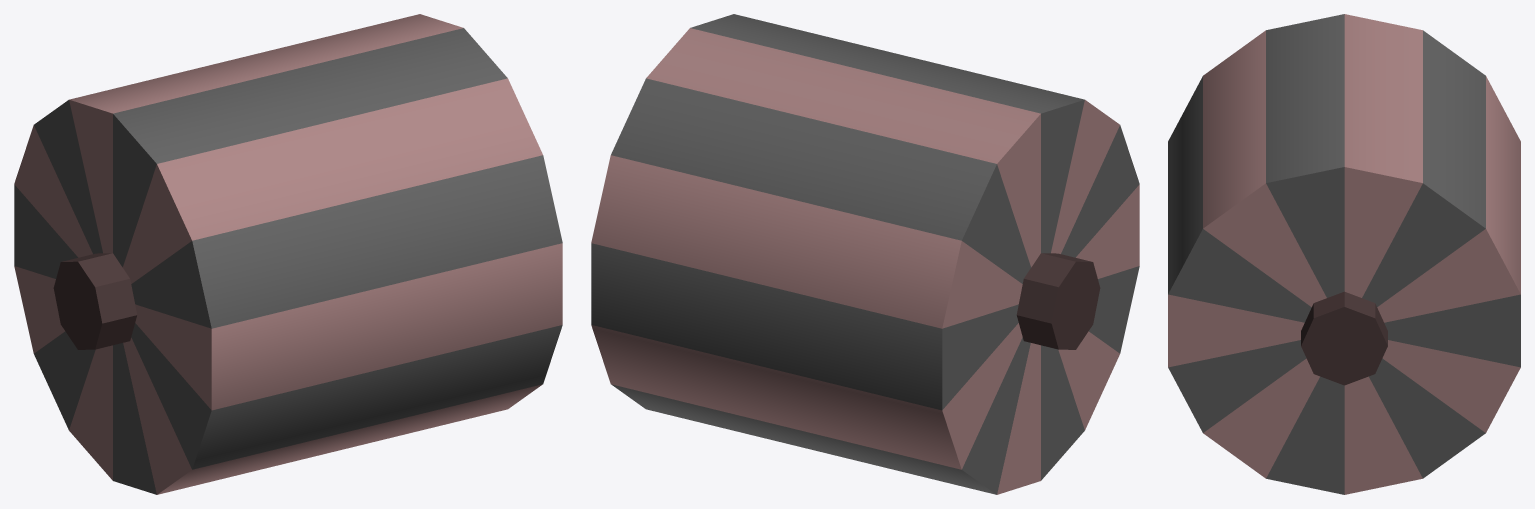
File: west_sinning_trap.fbx
The picture shows the model from 3 angles, left to right: view 1: azimuth 30°, elevation 25°; view 2: azimuth 150°, elevation 25°; view 3: azimuth 270°, elevation 25°; orthographic projection. The views are drawn at different scales.
Parts seen in each view (by area): view 1: pCylinder3; view 2: pCylinder3; view 3: pCylinder3.
Boxes of the visible parts, left/top/right/bottom form: pCylinder3: left=14, top=14, right=562, bottom=494; pCylinder3: left=591, top=14, right=1139, bottom=494; pCylinder3: left=1168, top=14, right=1520, bottom=494.
Bounding box in the file's own units: 9.99 × 8.33 × 8.12.
